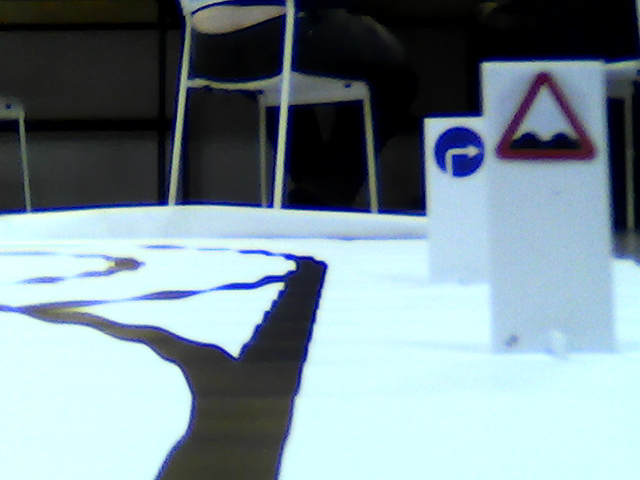Nerov: (494, 68, 598, 166)
Right: (432, 126, 482, 177)
